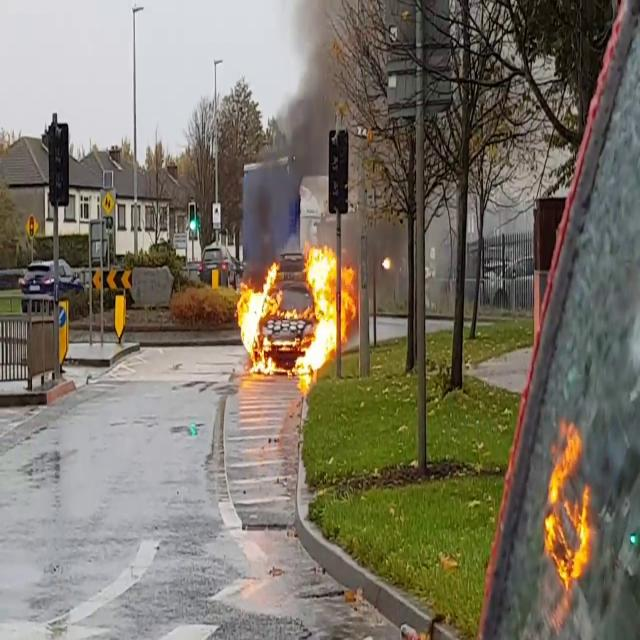fire: (235, 243, 354, 380), (540, 420, 596, 612), (24, 210, 41, 240)
smoke: (272, 1, 336, 248)
